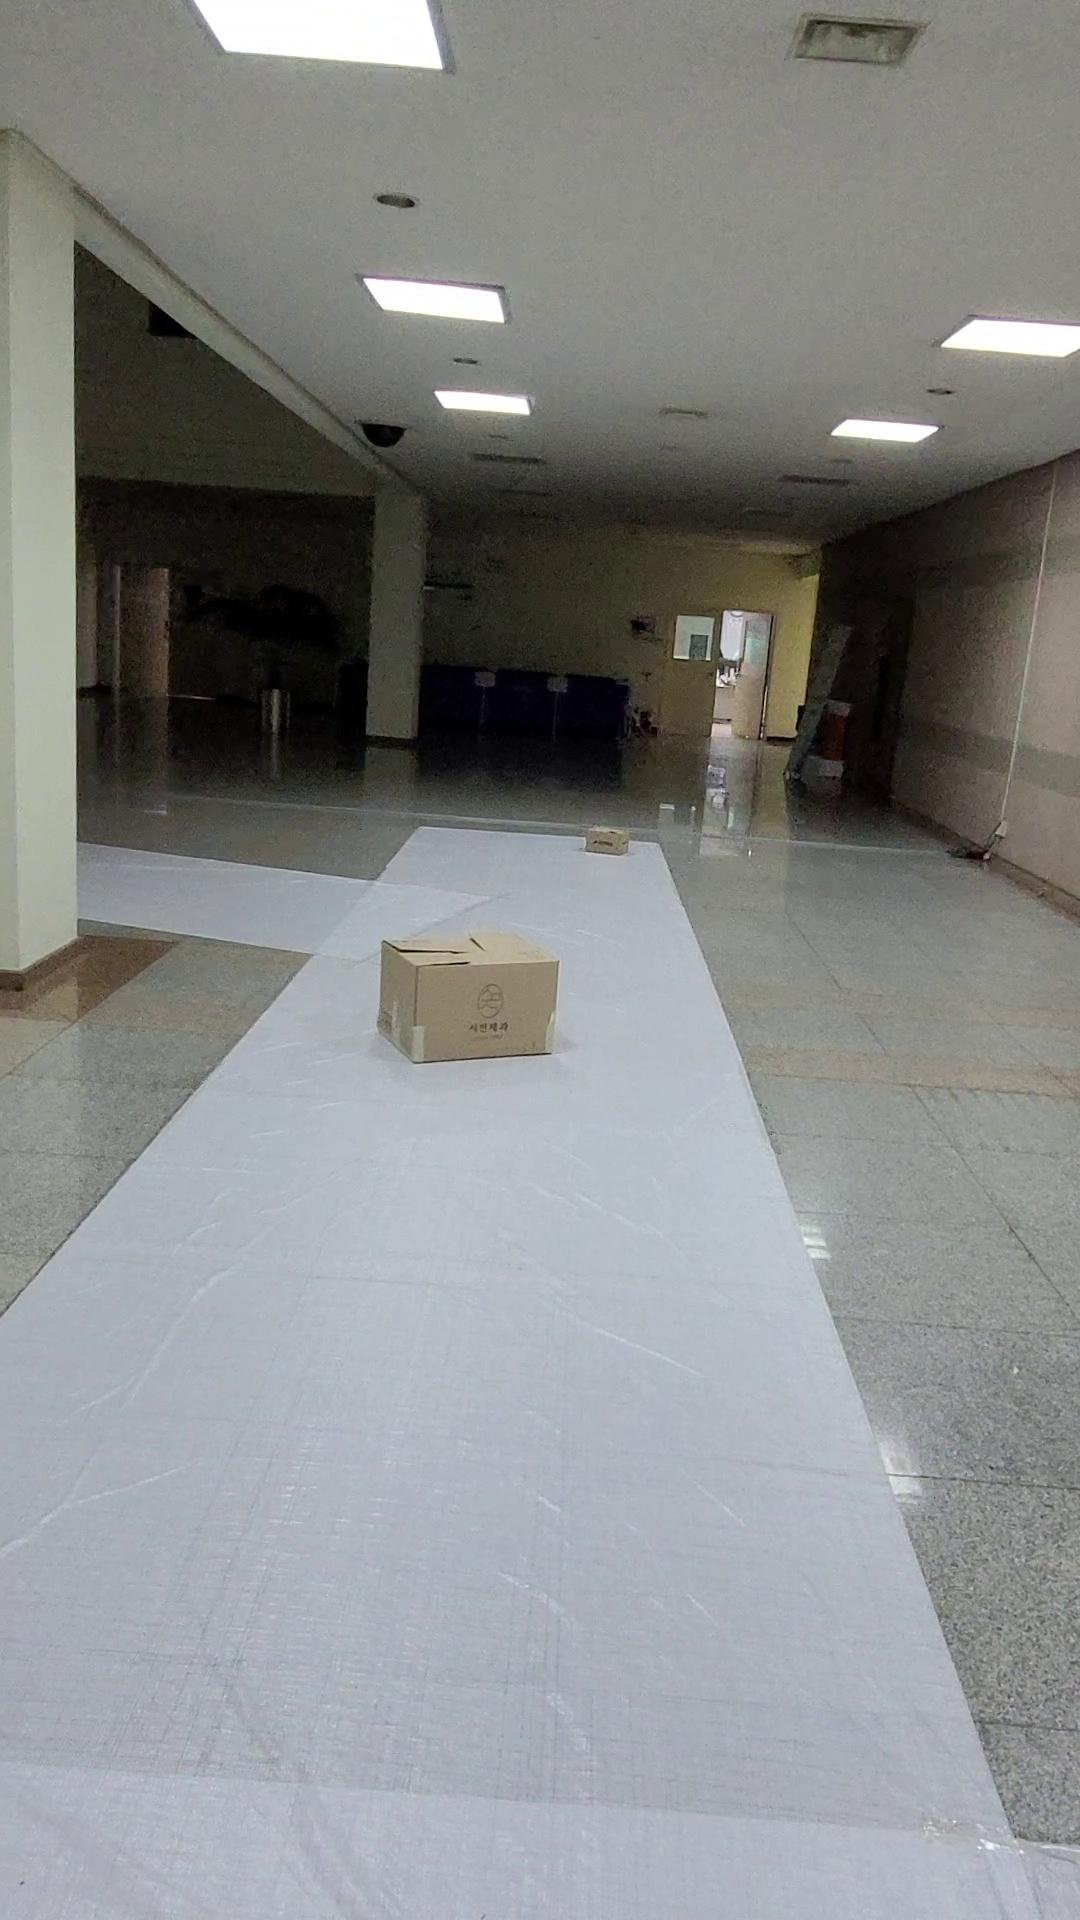Box: (357, 898, 605, 1091), (560, 795, 650, 870)
